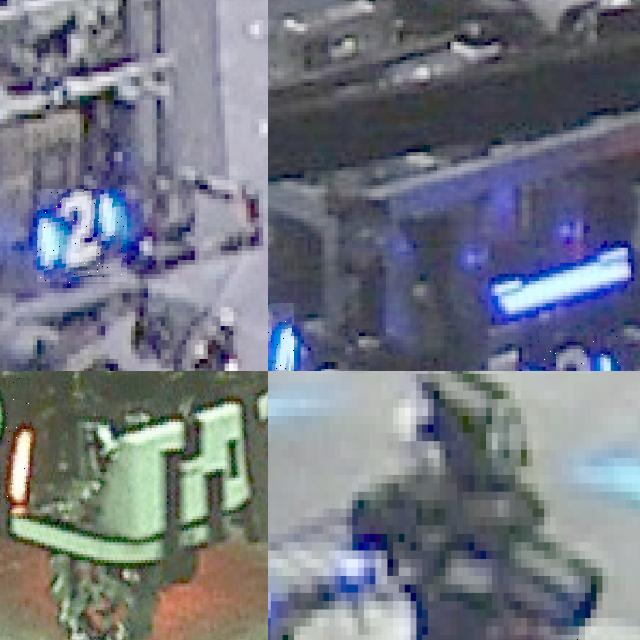B2: (37, 190, 127, 284), (525, 336, 620, 371), (268, 302, 293, 371)
R3: (0, 378, 29, 510)
